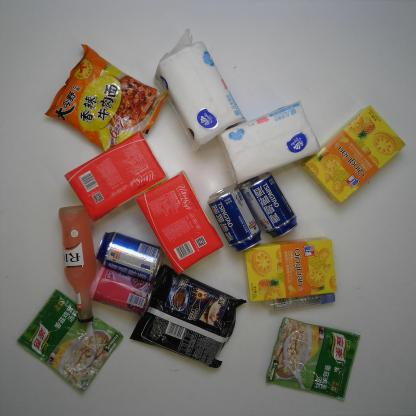Alcohol: (47, 199, 103, 323), (87, 213, 168, 288), (237, 168, 301, 239), (207, 181, 262, 254)
Canned Food: (78, 252, 160, 321)
Dessert: (309, 98, 407, 214), (244, 232, 344, 301)
Instant Noodles: (29, 20, 175, 158), (119, 264, 260, 371)
Seasoner: (10, 288, 132, 400), (246, 310, 379, 400)
Stationery: (268, 287, 343, 315)
Tissue: (143, 27, 245, 150), (63, 126, 167, 226), (214, 92, 329, 180), (138, 165, 226, 279)
